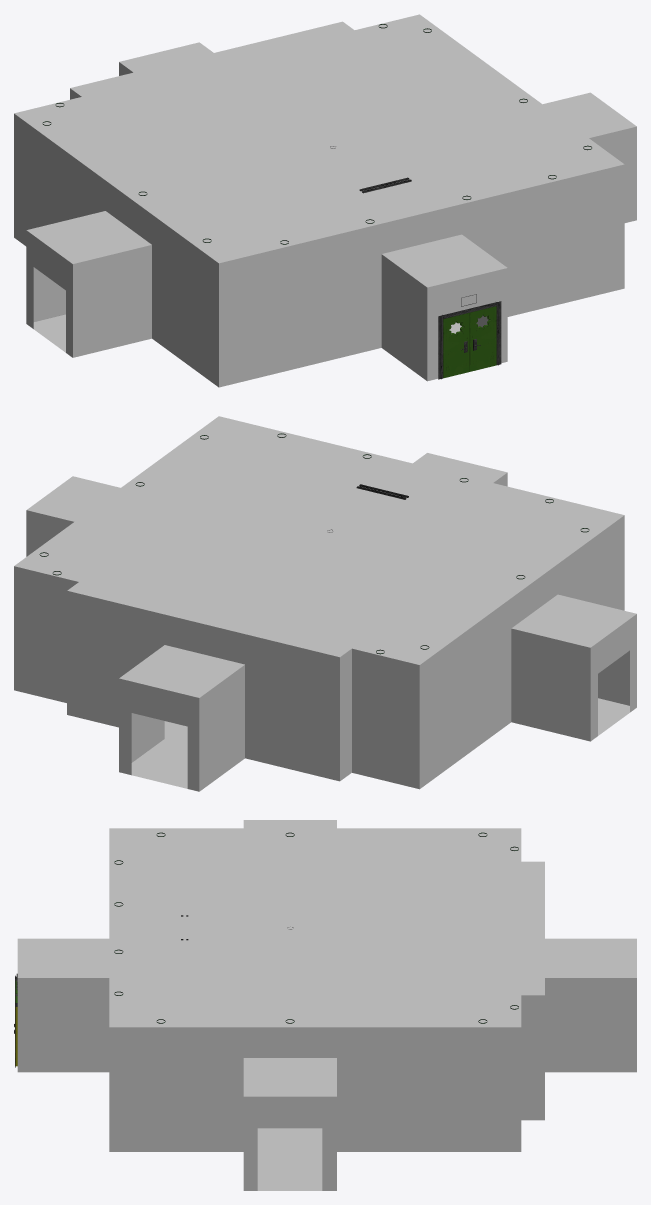
File: 3_Door_Room.fbx
3 views of the same model, one above another, from view 1: azimuth 30°, elevation 25°; view 2: azimuth 150°, elevation 25°; view 3: azimuth 270°, elevation 25° (orthographic).
Visible parts, largest first — view 1: Roof, Wall1, Right, Left, Frame, Floor; view 2: Roof, Wall1, Floor; view 3: Roof, Wall1, Floor.
Part boxes in pixels (<box>): Roof: <box>14,14,636,287</box>; Wall1: <box>14,62,636,387</box>; Right: <box>443,312,469,378</box>; Left: <box>470,306,496,371</box>; Frame: <box>438,301,501,379</box>; Floor: <box>33,314,461,352</box>; Roof: <box>14,416,636,697</box>; Wall1: <box>14,472,636,791</box>; Floor: <box>131,698,629,788</box>; Roof: <box>17,820,636,1096</box>; Wall1: <box>17,978,636,1190</box>; Floor: <box>257,1128,322,1190</box>.
Size of the model in its own units: 65.26 by 14.03 by 62.12.
